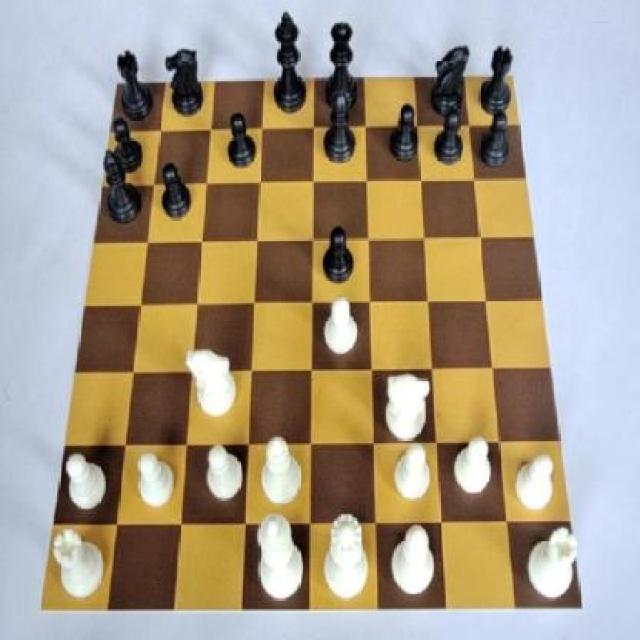bishop: (97, 148, 143, 233), (323, 86, 356, 167)
black-bishop: (264, 5, 310, 123)
black-king: (162, 40, 206, 127), (426, 38, 469, 121)
black-knight: (152, 158, 196, 227), (218, 108, 260, 172), (320, 223, 358, 289), (384, 99, 418, 172), (477, 103, 509, 177), (432, 111, 468, 172), (108, 116, 142, 176)
black-pawn: (325, 19, 357, 120)
black-queen: (112, 40, 157, 128), (476, 36, 520, 116)
black-rook: (391, 518, 442, 606), (256, 437, 304, 512)
white-bishop: (249, 508, 307, 608)
white-king: (182, 341, 240, 427), (382, 372, 432, 443)
white-knight: (129, 449, 180, 520), (63, 451, 112, 521), (204, 440, 246, 516), (389, 442, 434, 508), (451, 438, 498, 499), (516, 446, 554, 519), (323, 297, 361, 365)
white-pawn: (320, 516, 372, 604)
white-queen: (526, 521, 582, 607), (52, 531, 107, 608)
